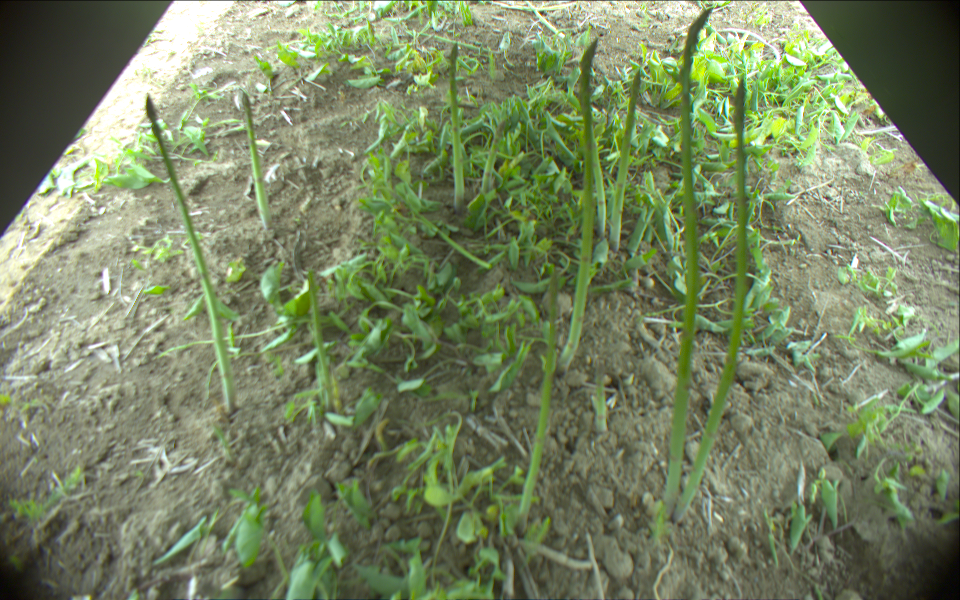aspa: (671, 73, 751, 521), (145, 93, 238, 416), (666, 6, 716, 506), (559, 35, 600, 371), (513, 269, 560, 528), (607, 71, 641, 248), (241, 91, 270, 228), (446, 38, 466, 211), (408, 26, 501, 53), (481, 117, 508, 195), (591, 114, 607, 240), (527, 1, 565, 39), (591, 363, 610, 436), (486, 1, 579, 13)
